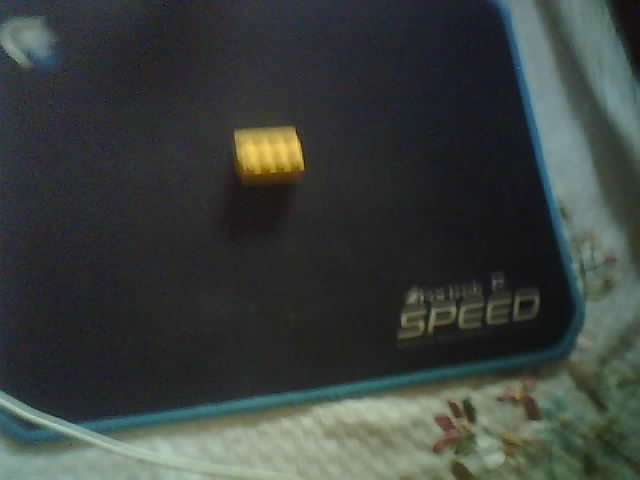lego: (231, 127, 305, 186)
